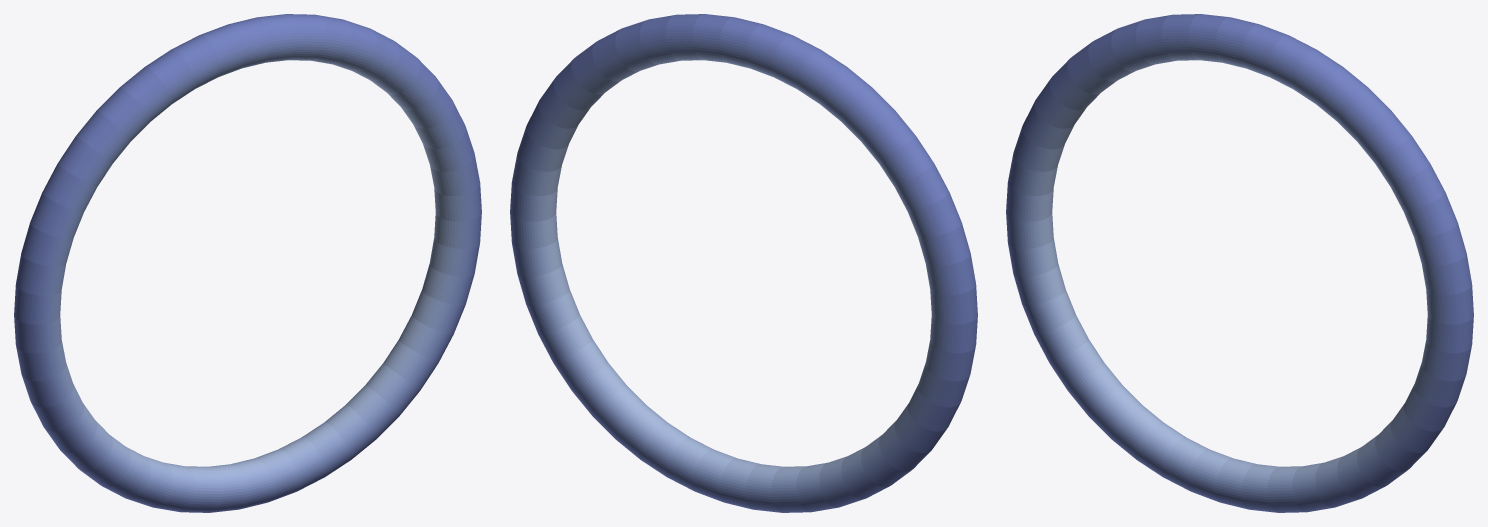
3 views of the same model, side by side, from view 1: azimuth 30°, elevation 25°; view 2: azimuth 150°, elevation 25°; view 3: azimuth 330°, elevation 25° (orthographic).
Parts seen in each view (by area): view 1: world; view 2: world; view 3: world.
Part boxes in pixels (<box>): world: <box>14,14,481,512</box>; world: <box>510,14,977,512</box>; world: <box>1006,14,1473,512</box>.
Size of the model in its own units: 29.2 by 29.14 by 2.53.
